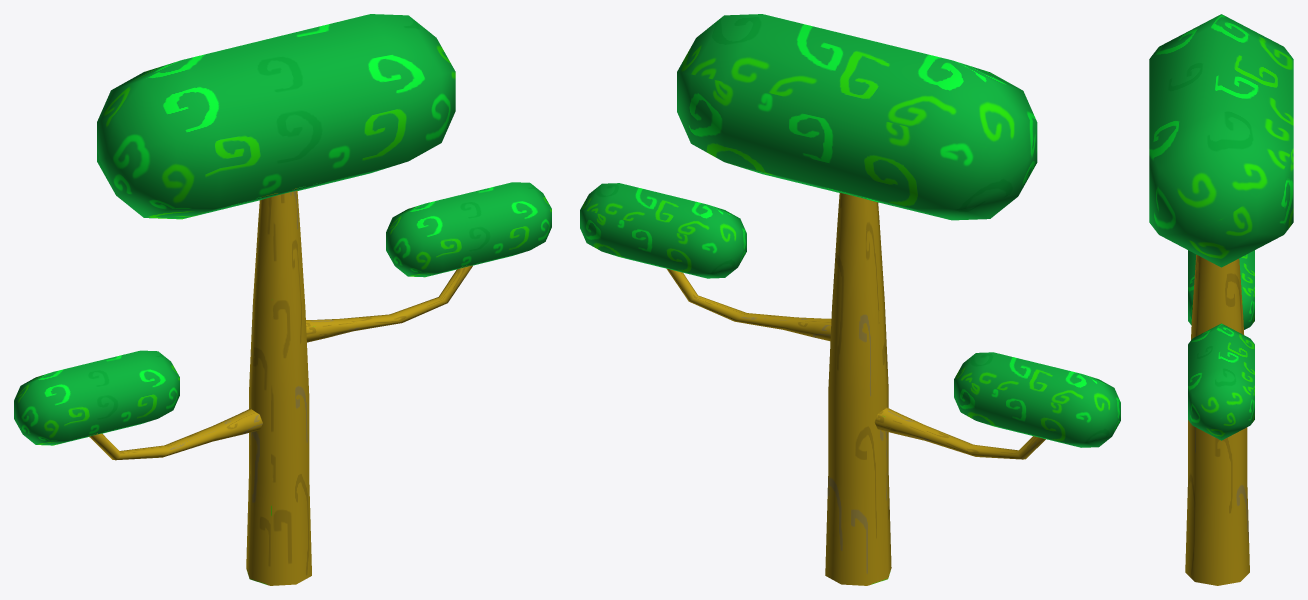
The model's file is Tree.FBX.
3 renders of one model, left to right at view 1: azimuth 30°, elevation 25°; view 2: azimuth 150°, elevation 25°; view 3: azimuth 270°, elevation 25°, orthographic. The views are drawn at different scales.
Parts seen in each view (by area): view 1: Leaves, Tree, Leaves001, Leaves002, Branch001, Branch; view 2: Leaves, Tree, Leaves001, Leaves002, Branch001, Branch; view 3: Leaves, Tree, Leaves002, Leaves001.
Part boxes in pixels (x1,y1,x2,y2): Leaves: [97, 14, 455, 219]; Tree: [246, 188, 311, 585]; Leaves001: [14, 350, 179, 445]; Leaves002: [386, 182, 551, 277]; Branch001: [89, 408, 262, 460]; Branch: [306, 265, 472, 342]; Leaves: [677, 14, 1037, 220]; Tree: [825, 193, 891, 585]; Leaves001: [954, 352, 1120, 447]; Leaves002: [580, 183, 746, 278]; Branch001: [874, 407, 1045, 459]; Branch: [667, 269, 831, 341]; Leaves: [1149, 14, 1293, 267]; Tree: [1185, 254, 1249, 585]; Leaves002: [1188, 323, 1254, 440]; Leaves001: [1188, 250, 1254, 329].
Size of the model in its own units: 7.47 by 7.19 by 1.86.
